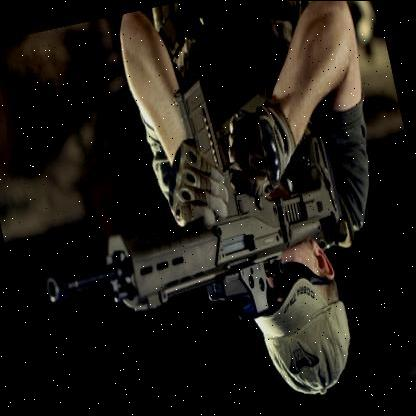rifle: (9, 68, 357, 332)
